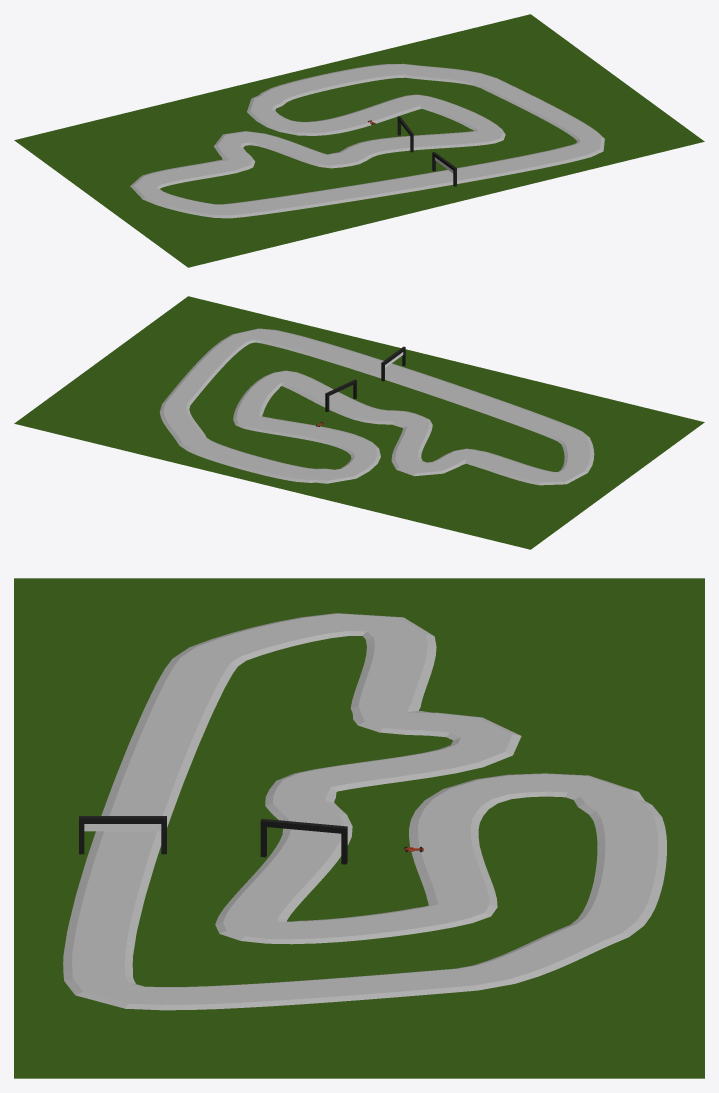
The model's file is normal-car.gltf.
The picture shows the model from 3 angles, top to bottom: view 1: azimuth 30°, elevation 25°; view 2: azimuth 150°, elevation 25°; view 3: azimuth 270°, elevation 25°; orthographic projection. The views are drawn at different scales.
Visible parts, largest first — view 1: ground, road; view 2: ground, road; view 3: ground, road, checkpoint, goal.
Boxes of the visible parts, x1,y1,x2,y2 form: ground: (14,14,704,267); road: (130,63,604,218); ground: (14,296,704,549); road: (159,328,594,485); ground: (14,578,704,1078); road: (63,613,666,1010); checkpoint: (260,818,347,864); goal: (79,816,166,854).
Size of the model in its own units: 454 by 17.43 by 265.
Materials: 3 (2 with a texture image).
